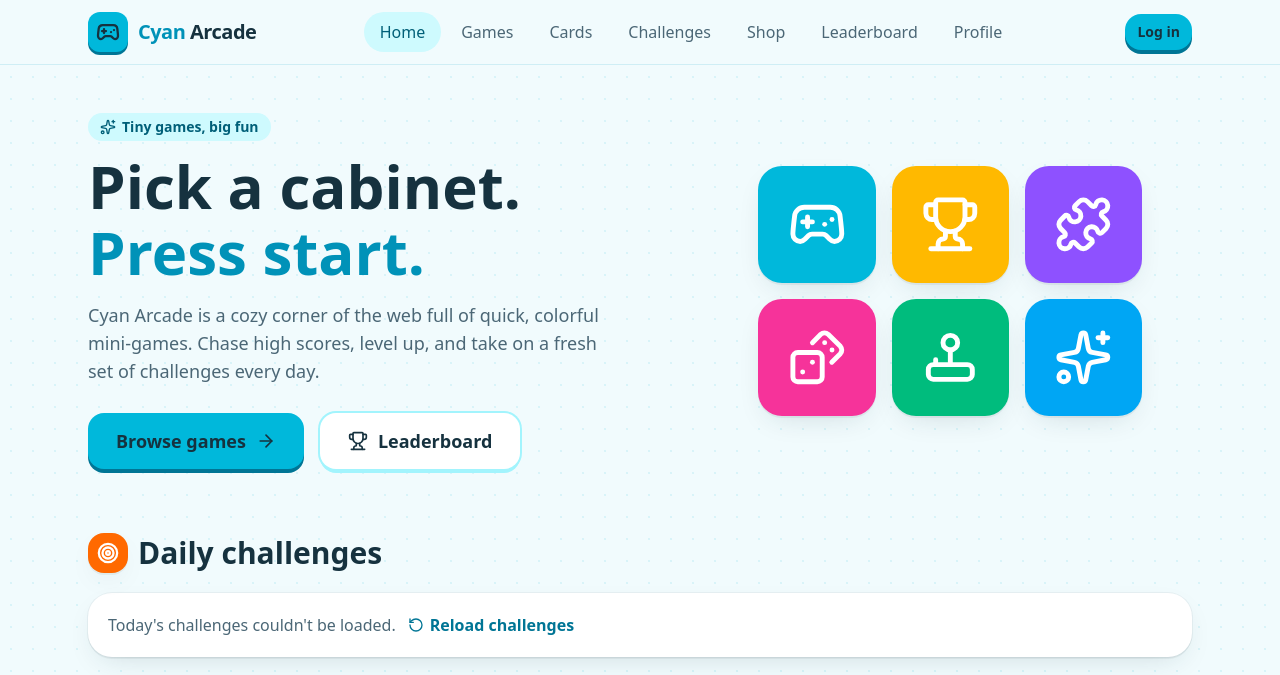
Test case: daily challenges on the home page › offers to reload when the challenges cannot be loaded, and leaves the rest of the page working
Click the button "Reload challenges". click: (491, 625)
box: x1=408 y1=613 x2=574 y2=637
(page scrolled)
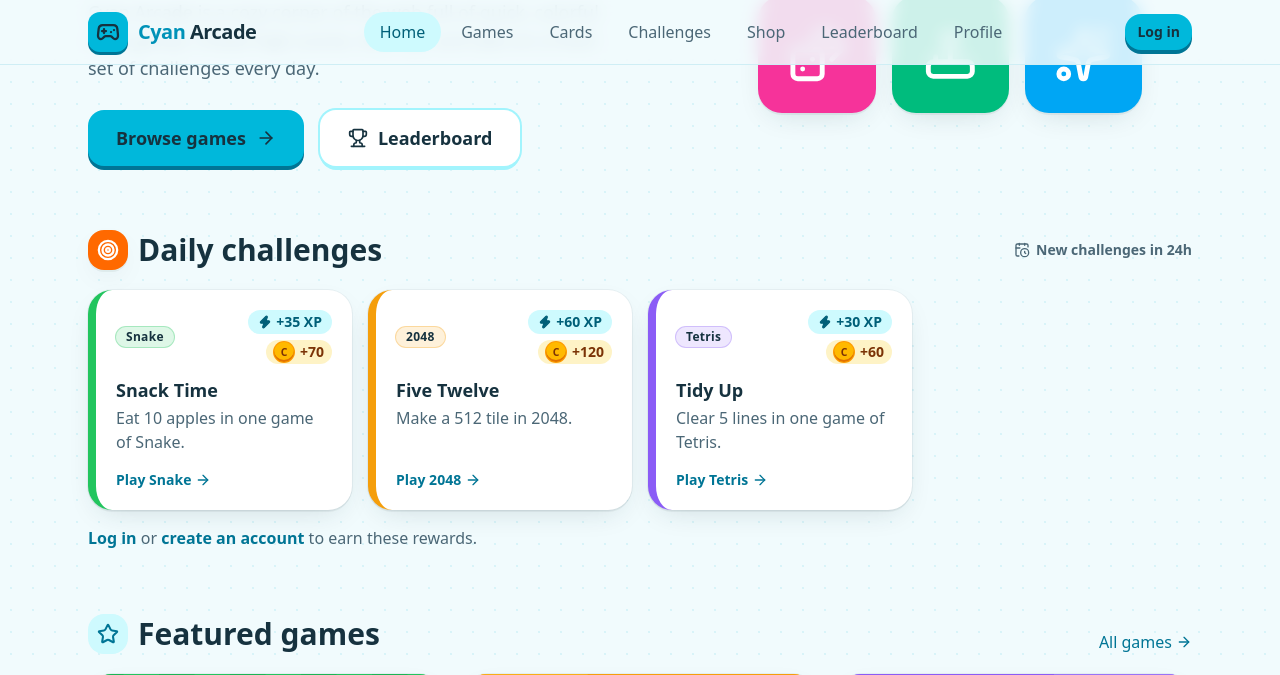
Expected: the link "Snack Time" is shown, x1=88 y1=290 x2=352 y2=510
Expected: the button "Reload challenges" is gone
